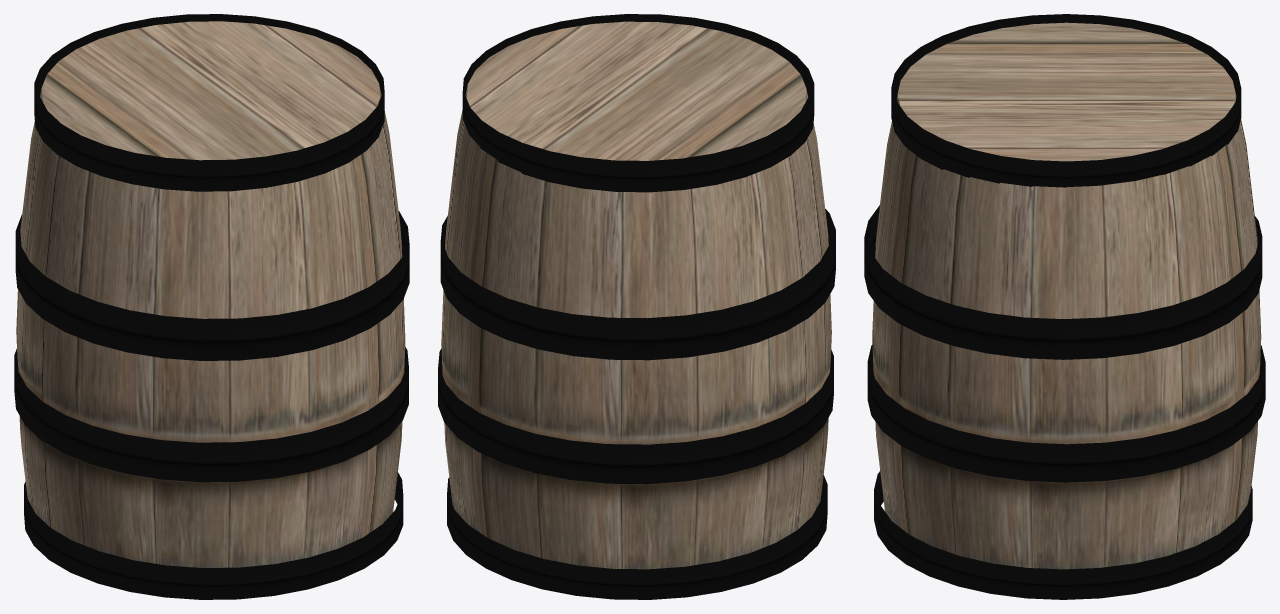
File: Barrel.glb
3 views of the same model, side by side, from view 1: azimuth 30°, elevation 25°; view 2: azimuth 150°, elevation 25°; view 3: azimuth 270°, elevation 25° (orthographic).
Parts seen in each view (by area): view 1: Sphere, Cylinder.008, Cylinder.006, Cylinder.007, Cylinder.004; view 2: Sphere, Cylinder.008, Cylinder.006, Cylinder.007, Cylinder.004; view 3: Sphere, Cylinder.008, Cylinder.006, Cylinder.007, Cylinder.004.
Boxes of the visible parts, x1,y1,x2,y2 form: Sphere: [16, 21, 405, 567]; Cylinder.008: [15, 211, 409, 360]; Cylinder.006: [14, 347, 408, 482]; Cylinder.007: [34, 14, 384, 191]; Cylinder.004: [24, 472, 403, 599]; Sphere: [441, 21, 831, 569]; Cylinder.008: [440, 209, 835, 360]; Cylinder.006: [438, 348, 833, 484]; Cylinder.007: [462, 14, 814, 192]; Cylinder.004: [447, 475, 827, 599]; Sphere: [872, 22, 1261, 569]; Cylinder.008: [864, 205, 1262, 359]; Cylinder.006: [867, 344, 1265, 482]; Cylinder.007: [891, 14, 1241, 187]; Cylinder.004: [874, 471, 1252, 599].
Bounding box in the file's own units: 2.29 × 2.76 × 2.33.
Materials: 5 (5 with a texture image).
